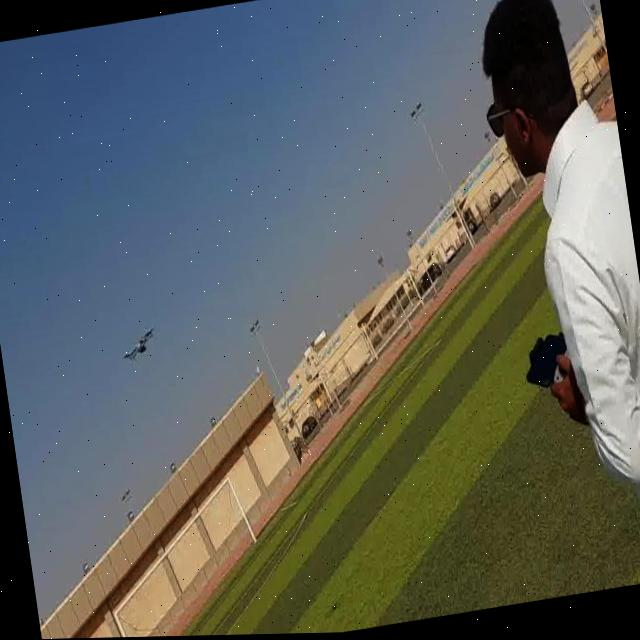drone: (116, 316, 162, 374)
